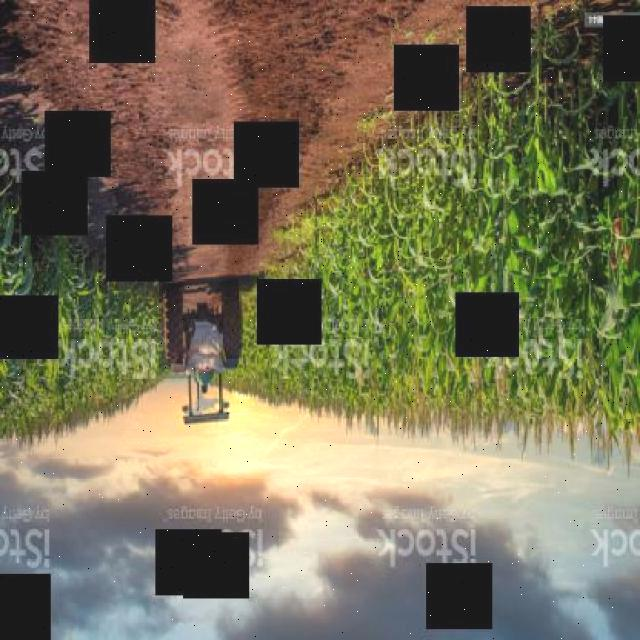Tratores - v5 YOLO V8L 2024-11-13: (140, 272, 269, 452)
